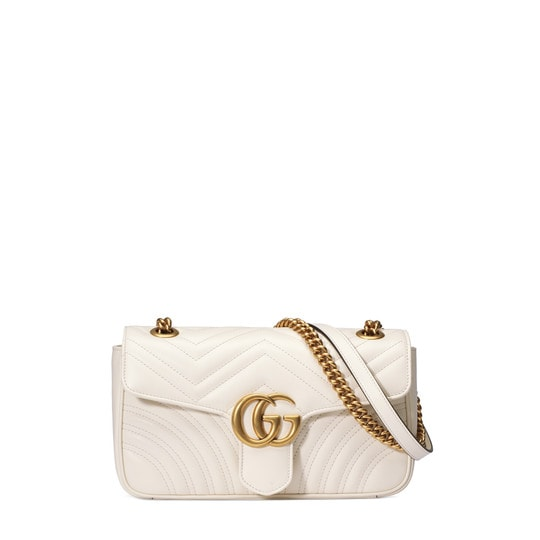Gucci: (90, 296, 431, 507), (123, 341, 336, 388), (226, 388, 300, 451)
